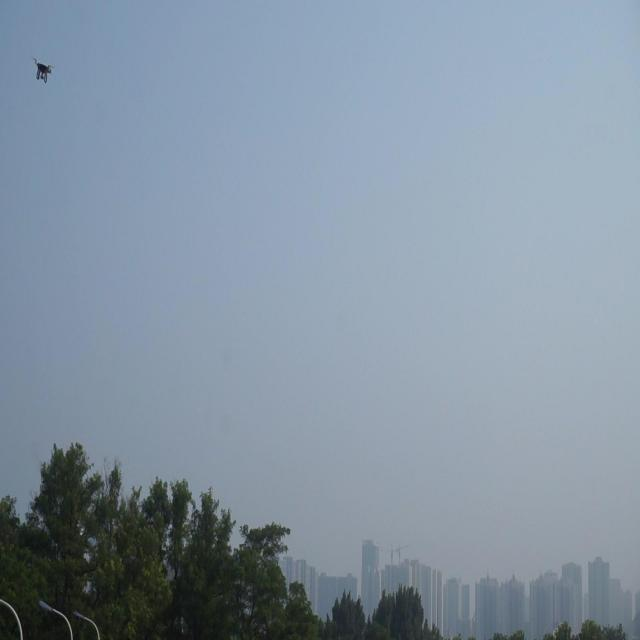UAV: (32, 58, 54, 84)
